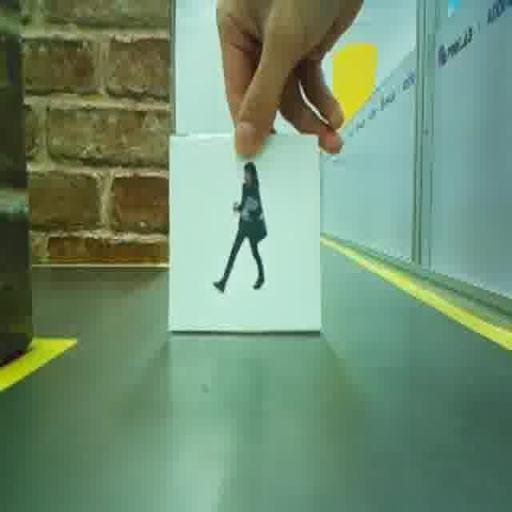human: (214, 162, 266, 291), (214, 162, 266, 290)
